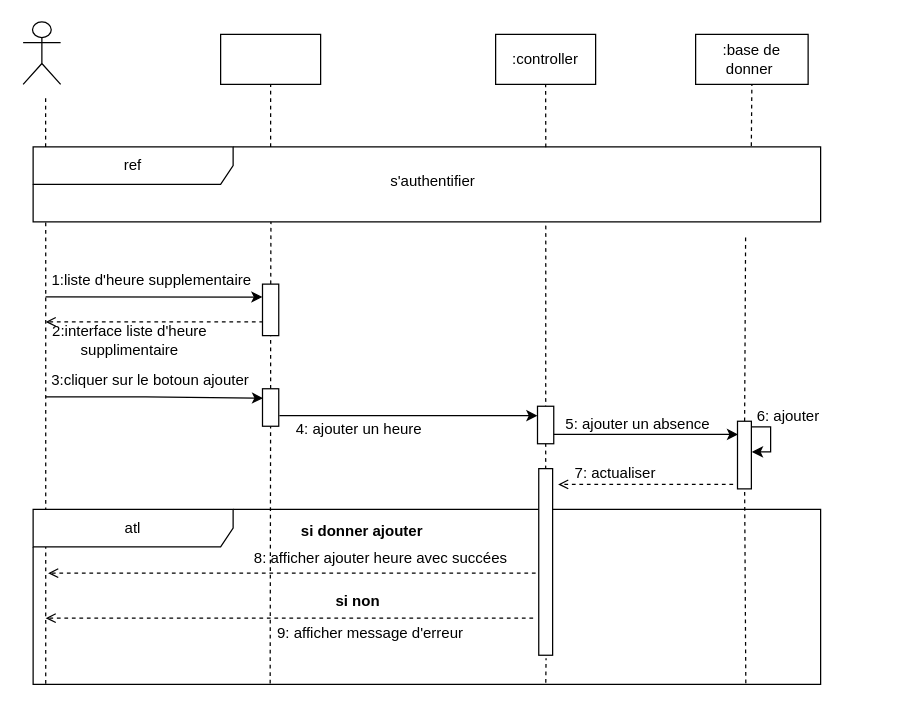
The diagram is 900 pixels wide and 708 high, and some of its shapes have lost their labels. Here are the shapes that lost their labels. From the top down, the centre of each, then its label:
At point (41, 52): "admin".
At point (270, 58): ":view".
